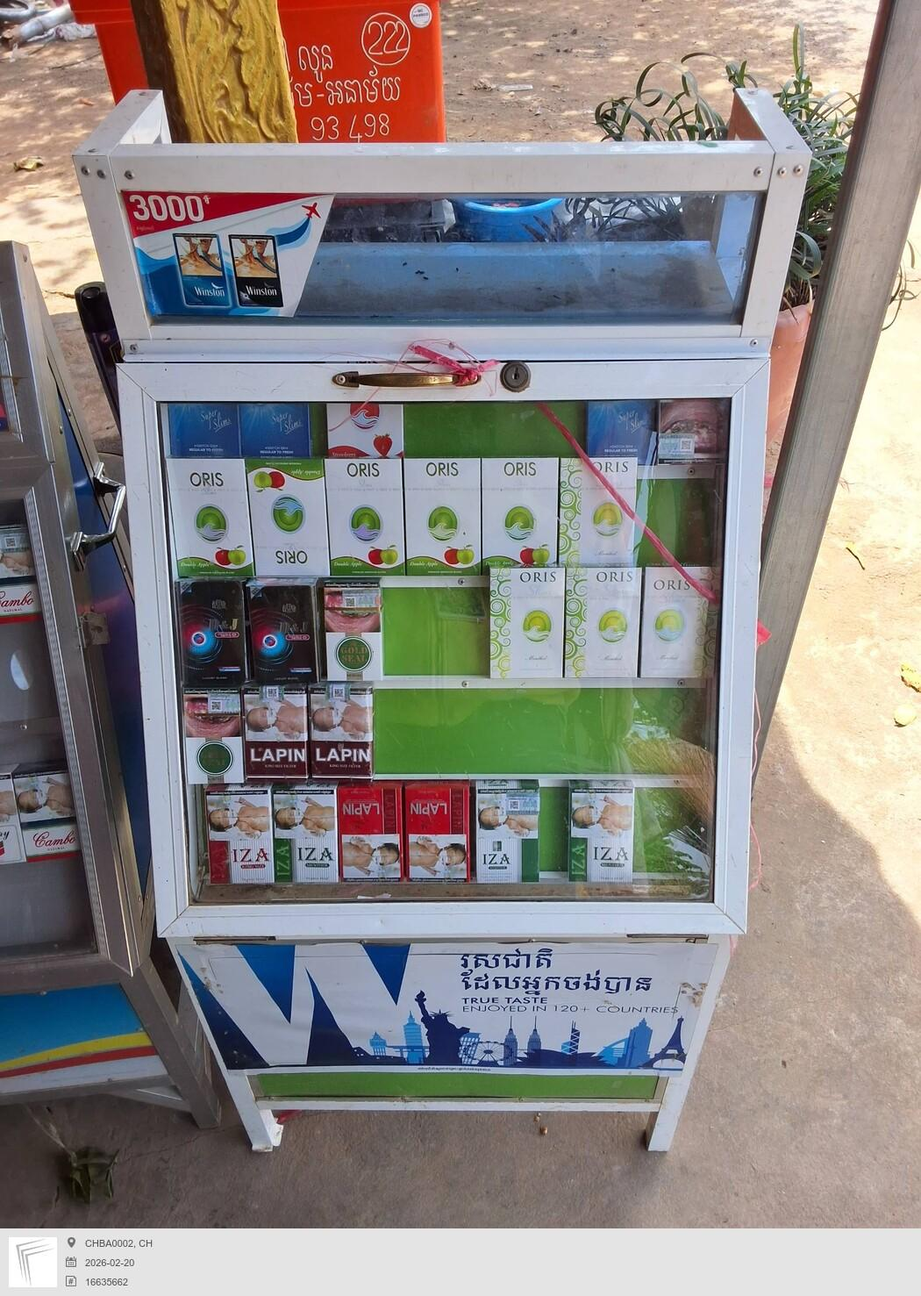cigarette_pack: (166, 460, 256, 585), (474, 464, 568, 580), (402, 461, 484, 584), (246, 455, 327, 578), (324, 459, 405, 576), (639, 559, 715, 680), (568, 564, 645, 683), (558, 460, 640, 571), (491, 564, 566, 684), (198, 781, 273, 894), (564, 779, 638, 884), (10, 768, 96, 857), (476, 780, 541, 888), (252, 580, 318, 686), (182, 580, 248, 685), (276, 774, 339, 884), (324, 577, 388, 680), (407, 779, 469, 880), (315, 677, 375, 779), (166, 230, 235, 318), (252, 675, 308, 780), (189, 684, 247, 782), (341, 782, 398, 878), (653, 395, 727, 457), (329, 402, 412, 456), (0, 518, 42, 623), (589, 395, 653, 458), (229, 234, 277, 306), (239, 405, 310, 453), (166, 405, 238, 450)
